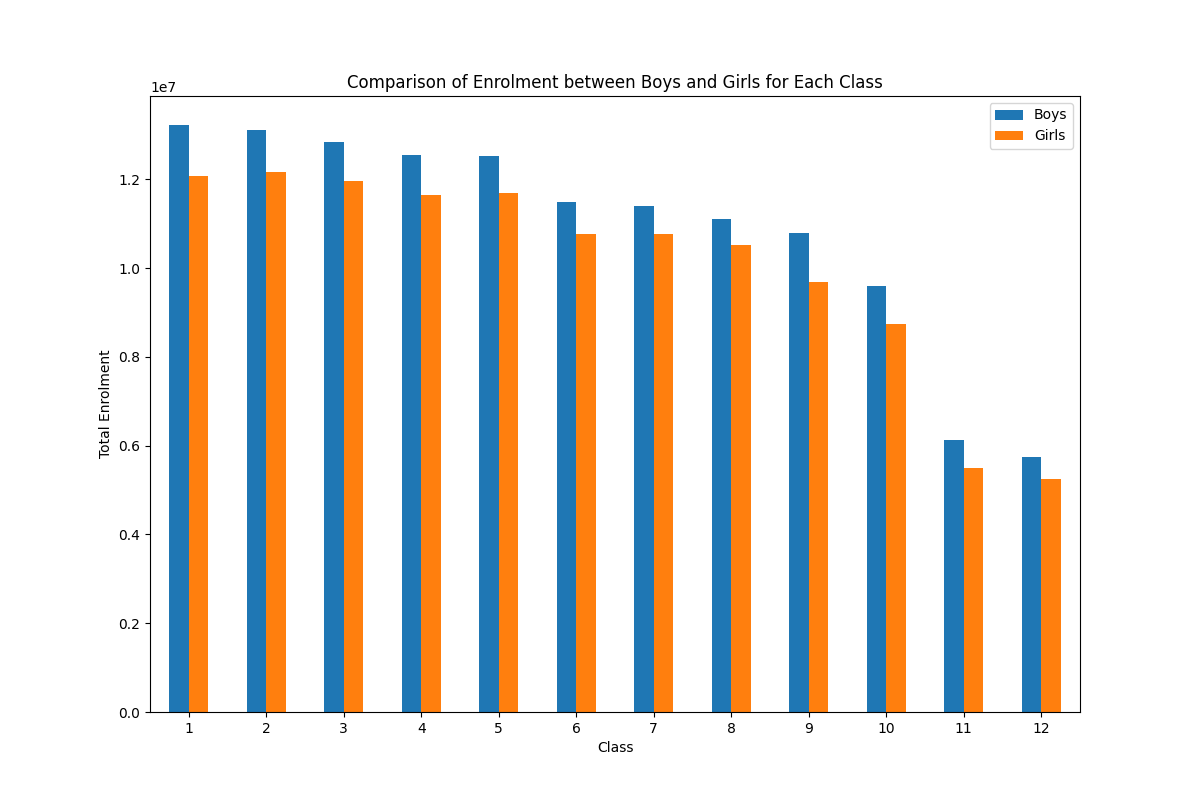

What the dashboard file says about the page in this screenshot:
{"tool":"tableau","page":{"name":"Dashboard 1","canvas":[1000,1000],"units":"permille","ordinal":0},"visuals":[{"type":"worksheet","title":"Sheet 2","mark":"Bar","rows":["count"],"cols":["date","date"],"box":[1.8,480.7,991,499.4]}]}

Visuals, with their boxes on the dashboard's canvas, which has no fixed pixel size, in thousandths of its width and height (x1, y1, x2, y2). These are canvas units, not pixel positions in the 1200x800 screenshot, which may show the page scaled, cropped or inside an application window:
"Sheet 2" worksheet (Bar marks): 2,481,993,980
